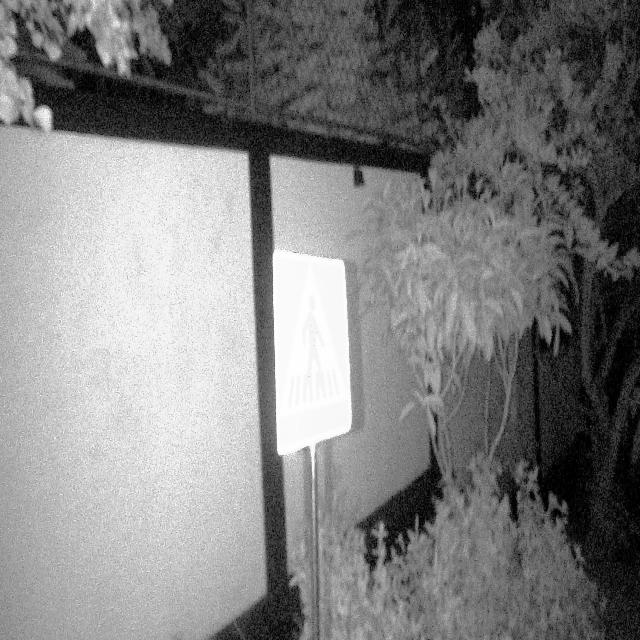Sign: (270, 248, 354, 458)
